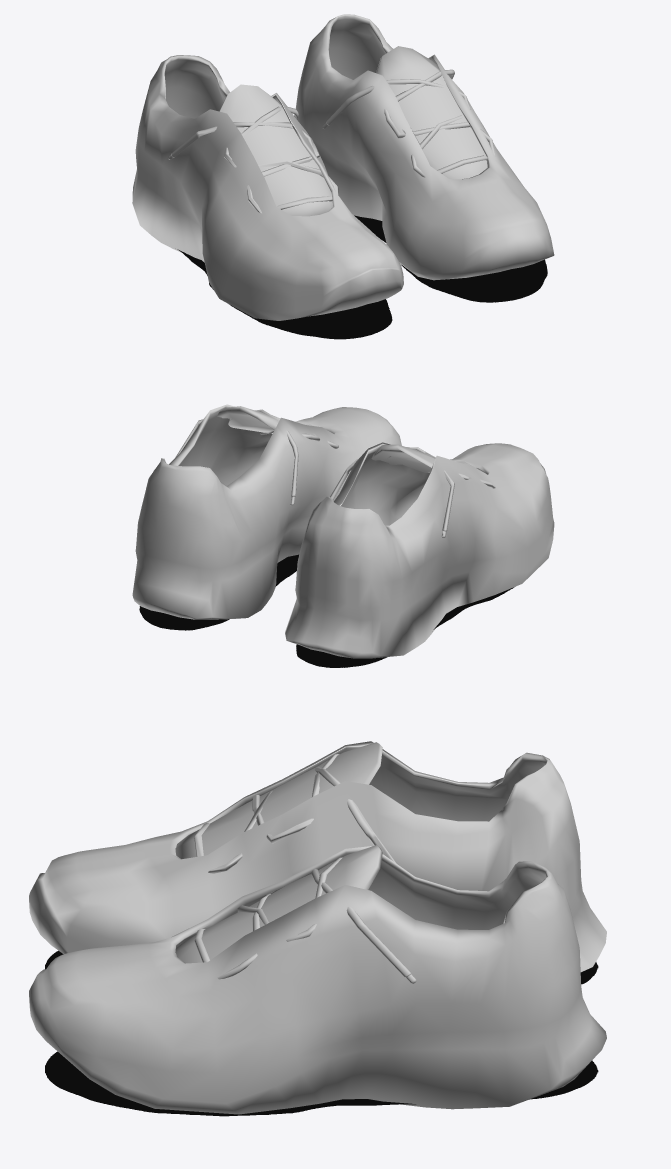
The model's file is Shoes_V4.dae.
3 views of the same model, one above another, from view 1: azimuth 30°, elevation 25°; view 2: azimuth 150°, elevation 25°; view 3: azimuth 270°, elevation 25° (orthographic). The views are drawn at different scales.
Visible parts, largest first — view 1: polySurface1, polySurface4, pPlane1, fibbia1, fibbia, polySurface3, polySurface2; view 2: polySurface1, polySurface4, pPlane1, fibbia, fibbia1, polySurface2, polySurface3; view 3: polySurface4, polySurface1, fibbia, fibbia1, pPlane1, polySurface3, polySurface2.
Part boxes in pixels (<box>): polySurface1: <box>132,55,403,320</box>; polySurface4: <box>295,14,554,280</box>; pPlane1: <box>177,215,547,339</box>; fibbia1: <box>376,46,487,179</box>; fibbia: <box>219,84,333,216</box>; polySurface3: <box>322,69,495,177</box>; polySurface2: <box>168,106,338,213</box>; polySurface1: <box>285,442,554,658</box>; polySurface4: <box>132,404,401,619</box>; pPlane1: <box>139,554,514,667</box>; fibbia: <box>371,444,482,472</box>; fibbia1: <box>217,406,278,433</box>; polySurface2: <box>330,447,495,538</box>; polySurface3: <box>175,409,338,505</box>; polySurface4: <box>29,846,606,1114</box>; polySurface1: <box>29,741,606,972</box>; fibbia: <box>175,742,382,859</box>; fibbia1: <box>175,845,382,963</box>; pPlane1: <box>45,950,598,1116</box>; polySurface3: <box>194,857,416,983</box>; polySurface2: <box>194,754,396,873</box>.
Size of the model in its own units: 0.3659 by 0.1415 by 0.3659.
